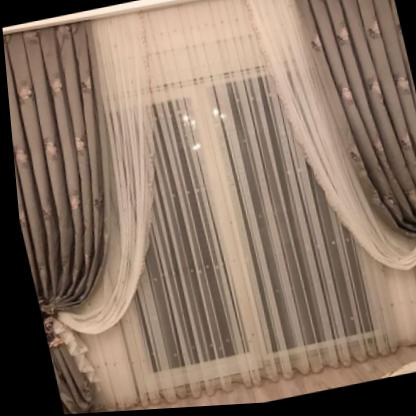Curtains: (1, 5, 224, 416), (240, 0, 416, 388)
